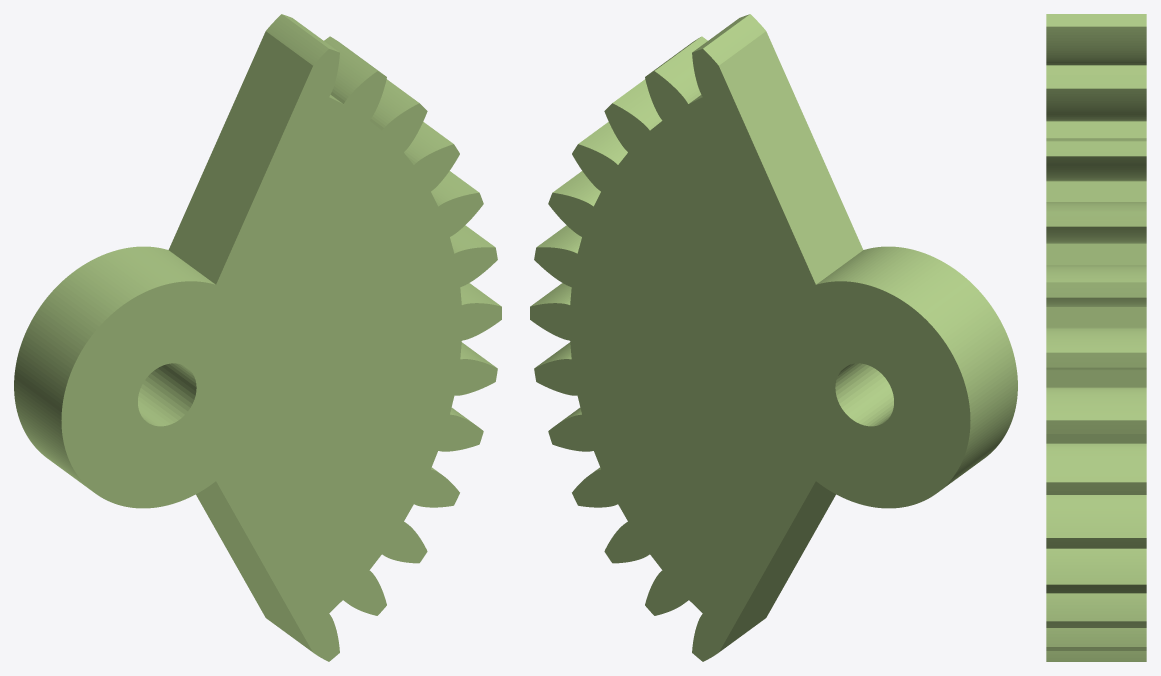
Rendered from spur_gear_sector_demo.glb.
The picture shows the model from 3 angles, left to right: view 1: azimuth 30°, elevation 25°; view 2: azimuth 150°, elevation 25°; view 3: azimuth 270°, elevation 25°; orthographic projection. The views are drawn at different scales.
Visible parts, largest first — view 1: sector_gear; view 2: sector_gear; view 3: sector_gear.
Boxes of the visible parts, x1,y1,x2,y2 form: sector_gear: (14,14,501,661); sector_gear: (530,14,1017,661); sector_gear: (1046,14,1146,661).
Size of the model in its own units: 37.5 by 49.89 by 7.
